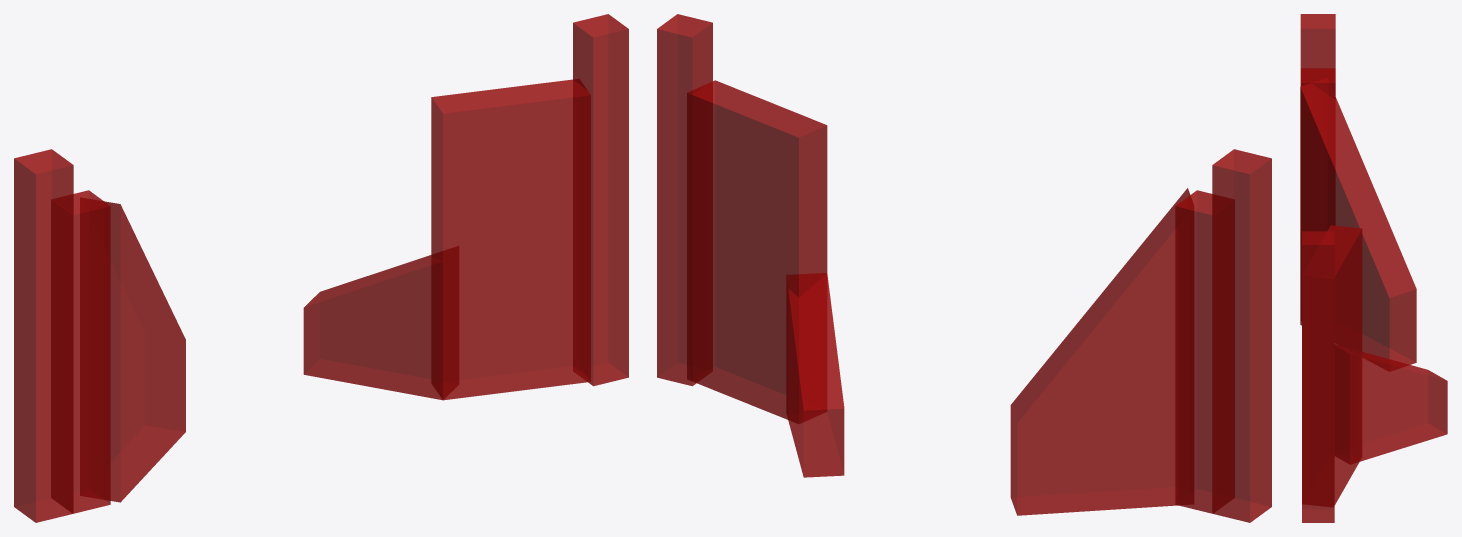
File: SM_Prop_Meadow_Fence_07_Collision.fbx
The picture shows the model from 3 angles, left to right: view 1: azimuth 30°, elevation 25°; view 2: azimuth 150°, elevation 25°; view 3: azimuth 270°, elevation 25°; orthographic projection. The views are drawn at different scales.
Visible parts, largest first — view 1: SM_Prop_Meadow_Fence_07_Collision; view 2: SM_Prop_Meadow_Fence_07_Collision; view 3: SM_Prop_Meadow_Fence_07_Collision.
Boxes of the visible parts, box(x1,y1,x2,y2) form: SM_Prop_Meadow_Fence_07_Collision: box(14, 14, 628, 522); SM_Prop_Meadow_Fence_07_Collision: box(657, 14, 1271, 522); SM_Prop_Meadow_Fence_07_Collision: box(1300, 14, 1447, 522).
Size of the model in its own units: 263 by 148 by 70.92.
